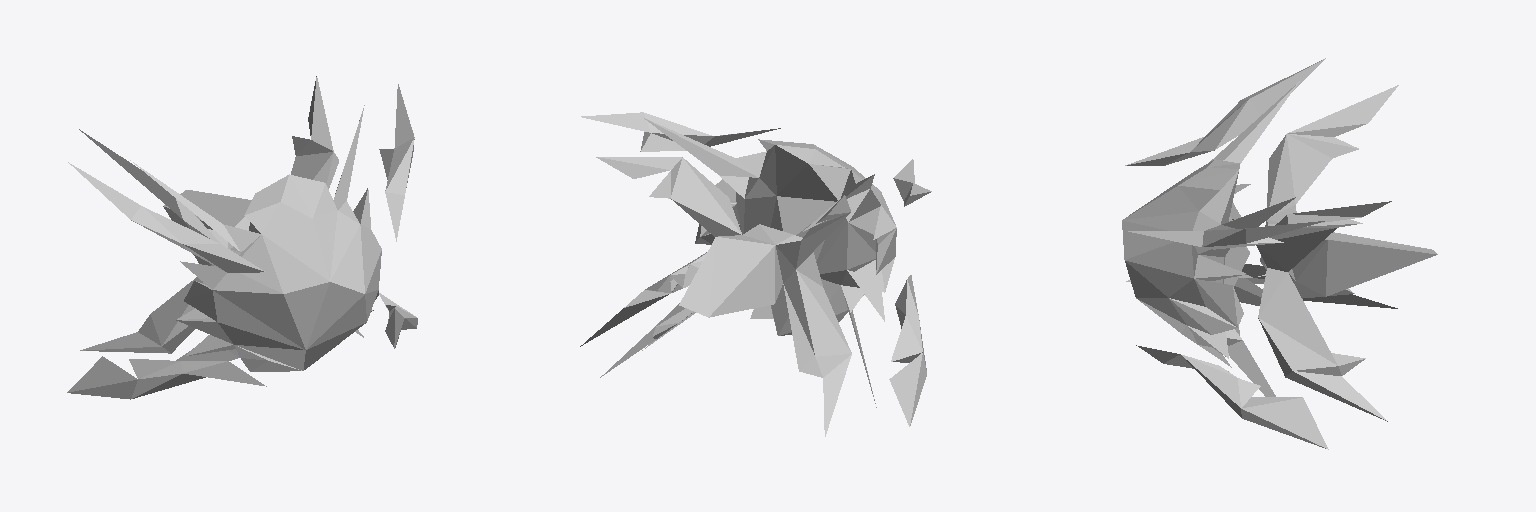
The picture shows the model from 3 angles: view 1: azimuth 30°, elevation 25°; view 2: azimuth 150°, elevation 25°; view 3: azimuth 270°, elevation 25°; orthographic projection.
Visible parts, largest first — view 1: ai_model; view 2: ai_model; view 3: ai_model.
Boxes of the visible parts, <box> form: ai_model: <box>67,76,417,399</box>; ai_model: <box>580,112,931,436</box>; ai_model: <box>1122,58,1437,449</box>.
Bounding box in the file's own units: 0.9471 × 0.6452 × 0.7825.